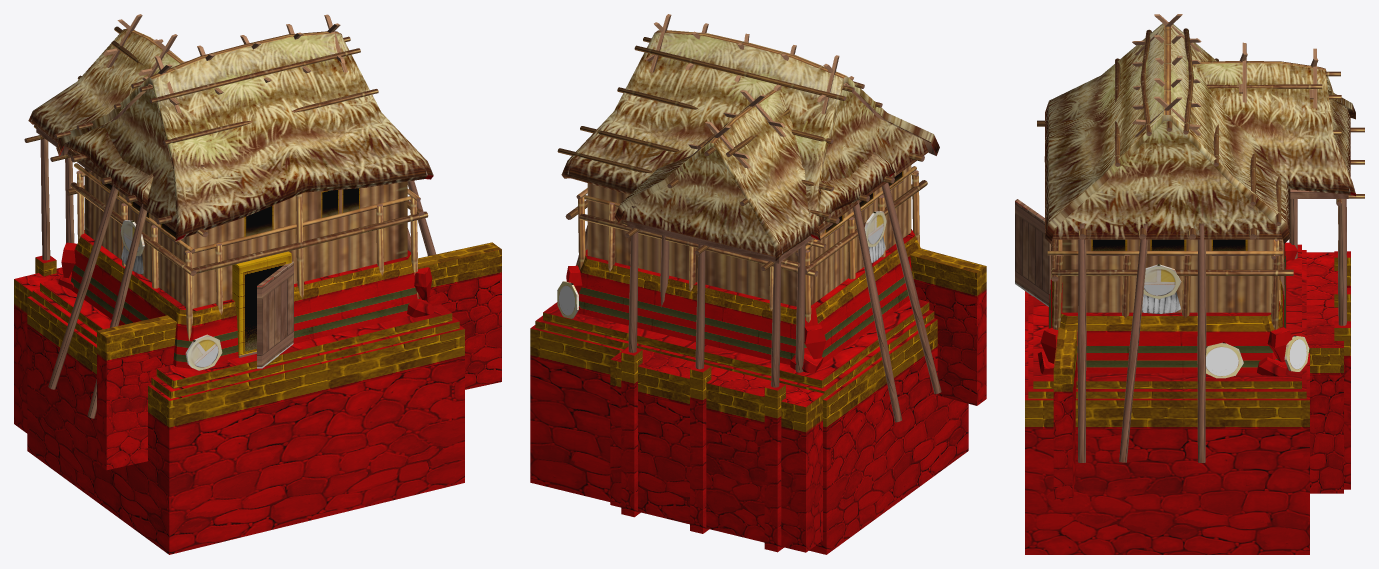
The model's file is zapo_house_c.dae.
3 views of the same model, side by side, from view 1: azimuth 30°, elevation 25°; view 2: azimuth 150°, elevation 25°; view 3: azimuth 270°, elevation 25° (orthographic).
Visible parts, largest first — view 1: HouseC; view 2: HouseC; view 3: HouseC.
Part boxes in pixels (x1,y1,x2,y2): HouseC: (14, 14, 501, 554); HouseC: (530, 14, 986, 554); HouseC: (1015, 14, 1364, 554).
Size of the model in its own units: 16.19 by 12.62 by 17.01.
